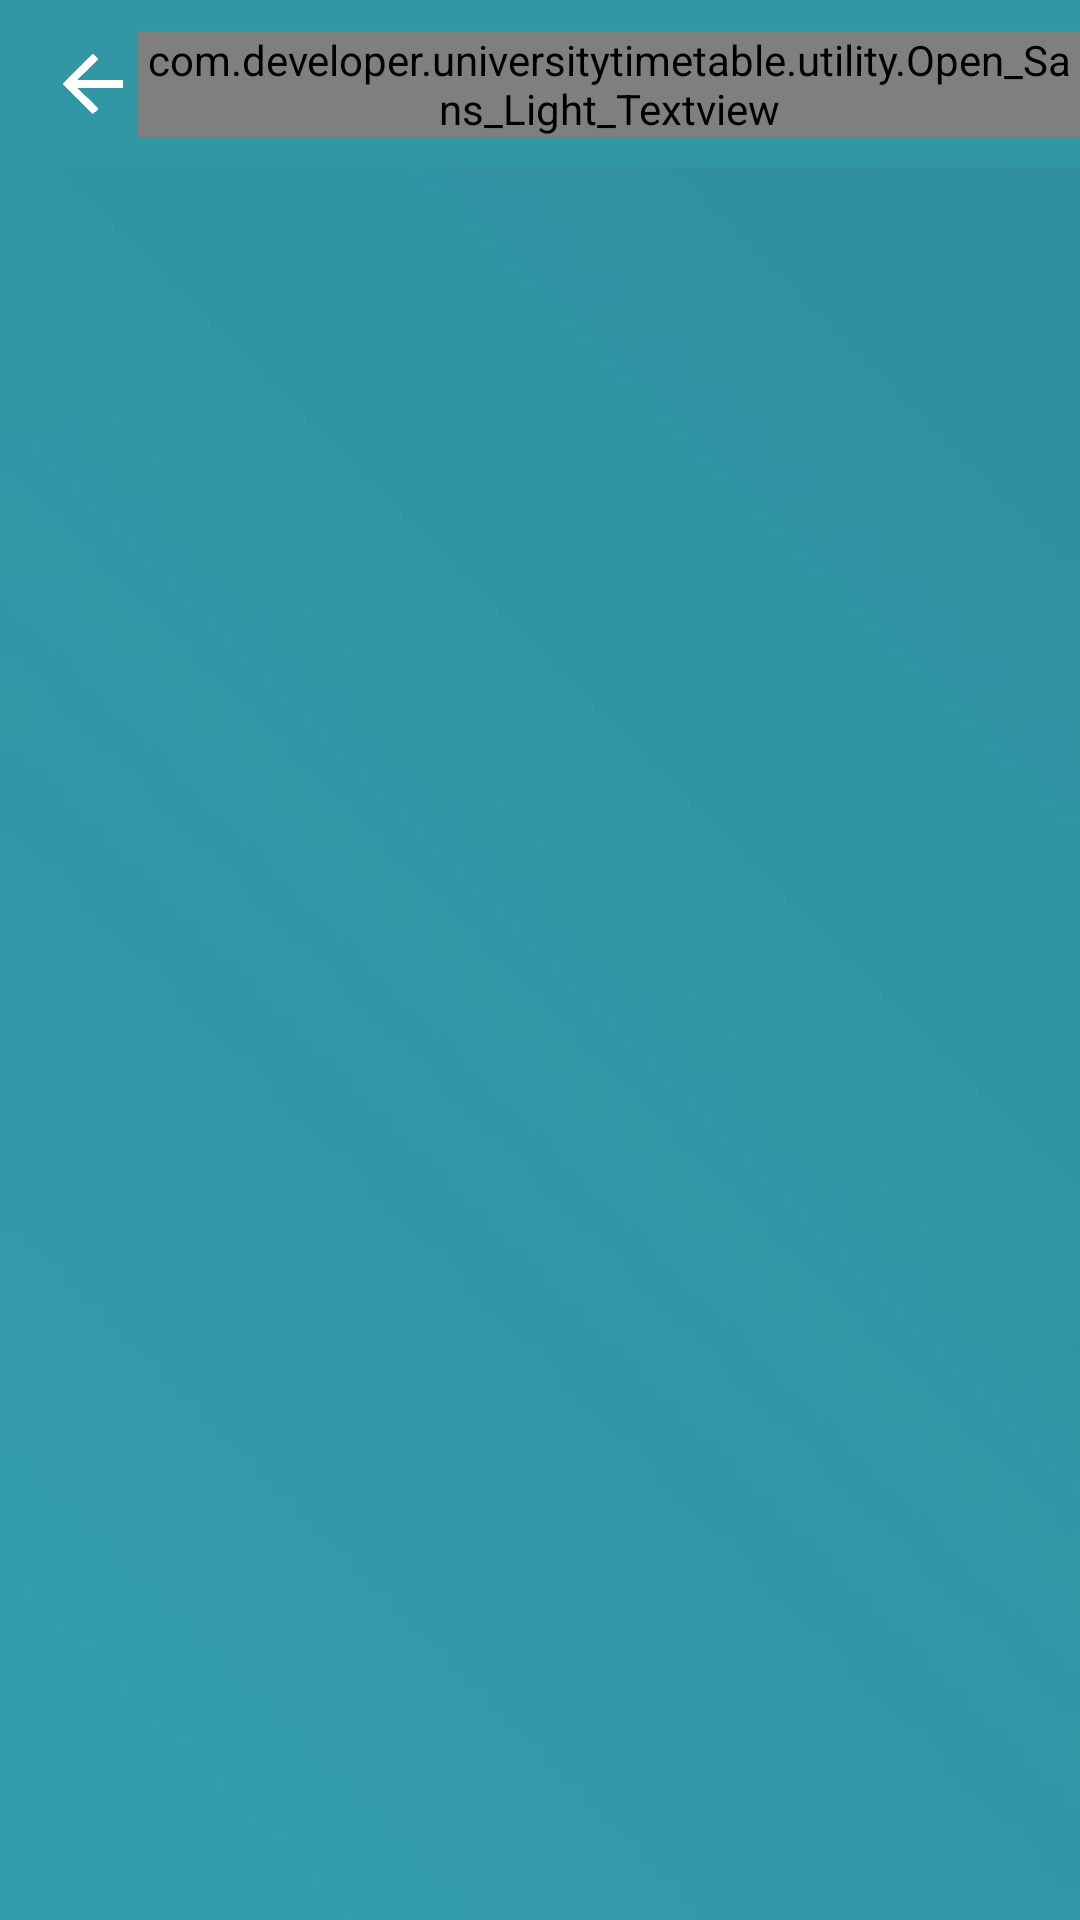

Icon click points for this 1080px×1920px phone screenshot, format (x,y):
back: (93,84)
